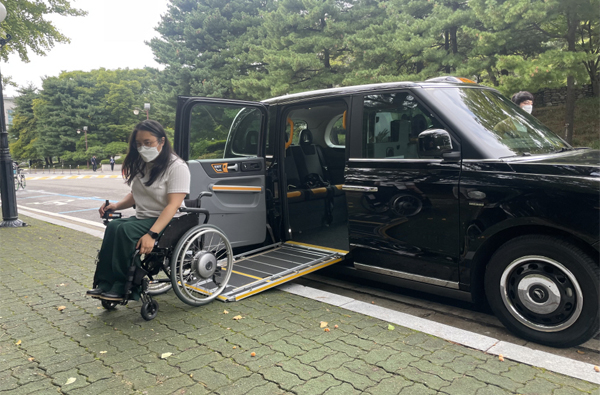wheelchair: (85, 119, 233, 321)
